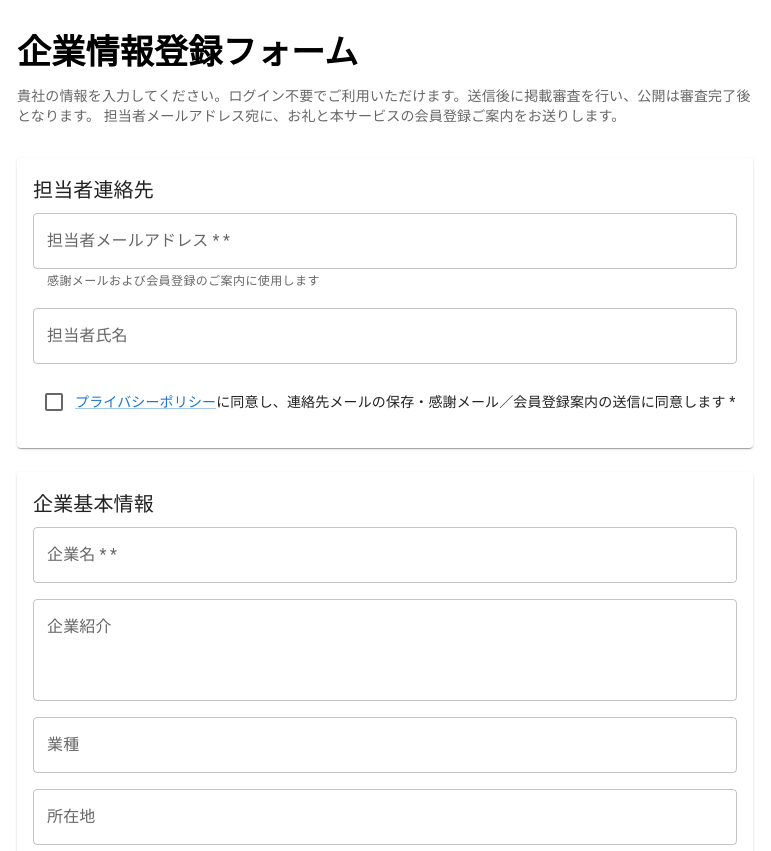
CompanyEntryPage › 同意チェック後に API へ送信する
Type "テスト株式会社" into the field labelled "企業名 * *" at (385, 555), box [33,527,737,583]
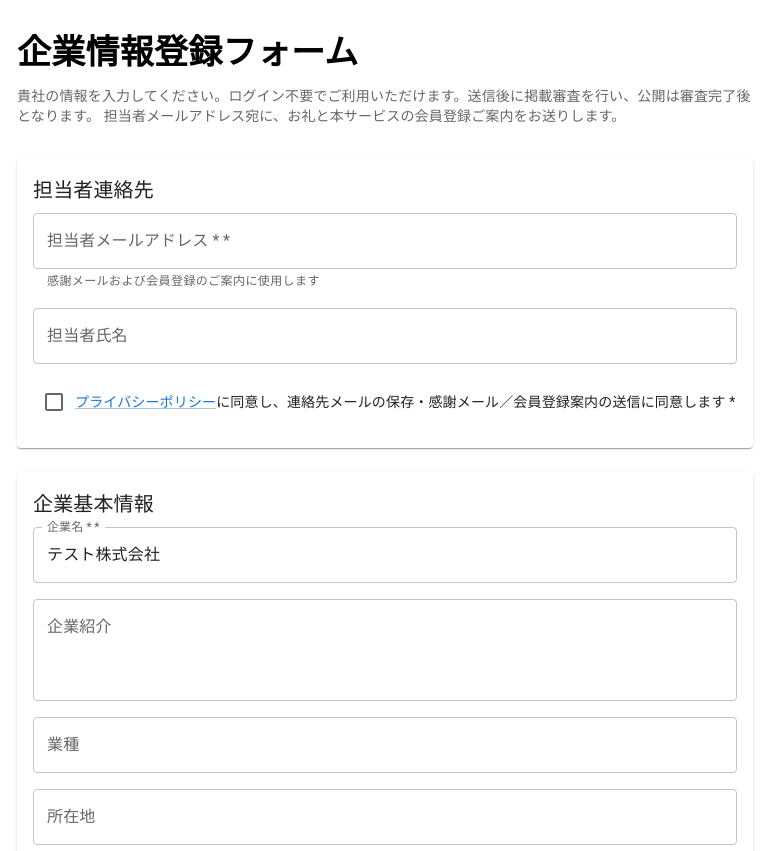
Type "hr@example.com" into the field labelled "担当者メールアドレス * *" at (385, 241), box [33,213,737,269]
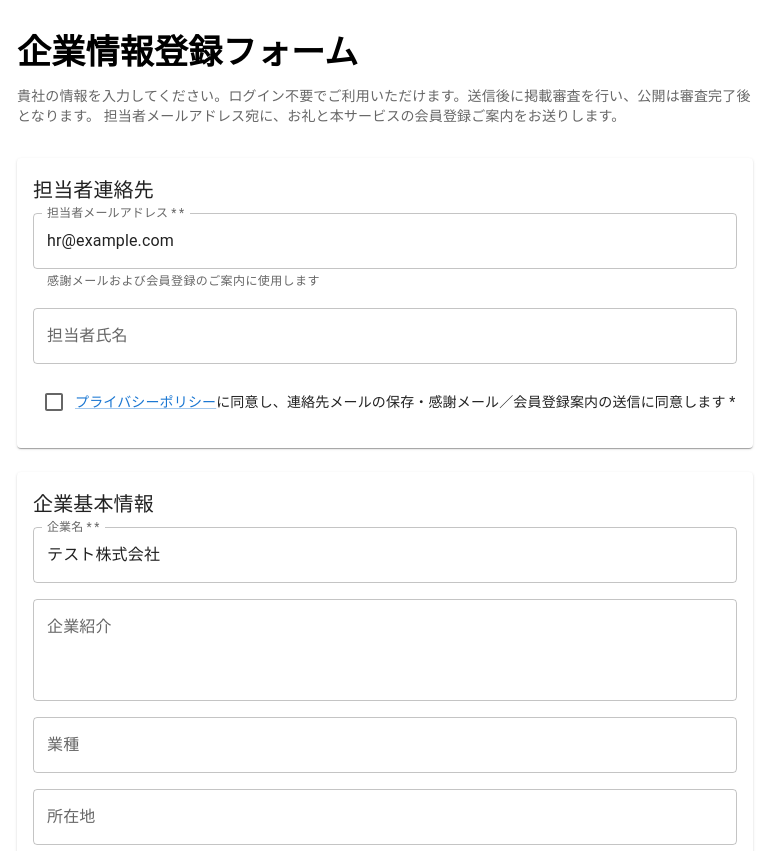
Click the checkbox at (389, 402), box [42,390,735,414]
(page scrolled)
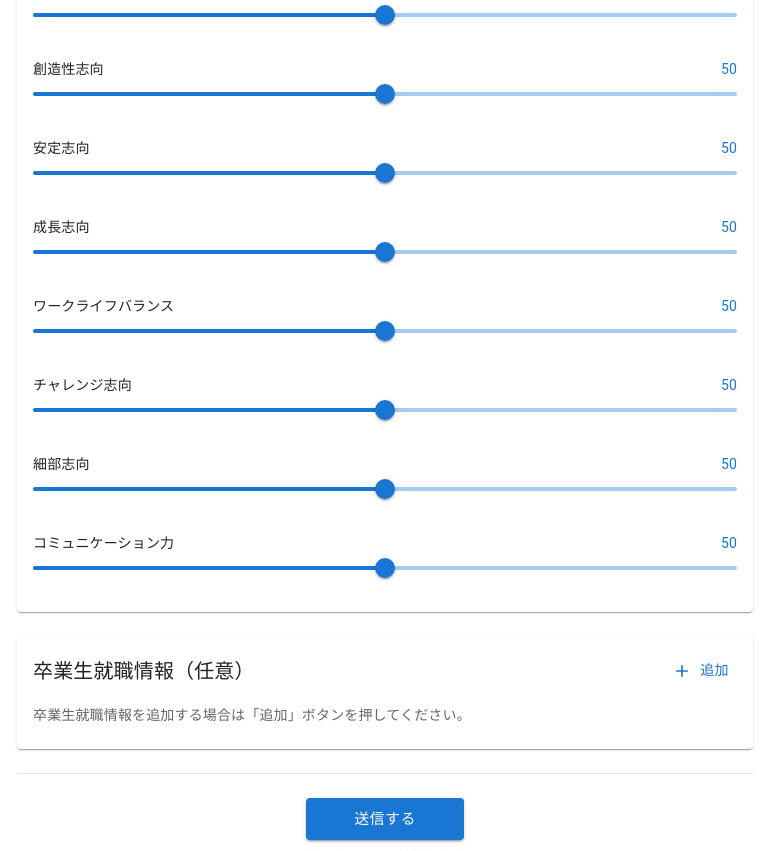
Click the button "送信する" at (385, 819), box [306,798,464,840]
(page scrolled)
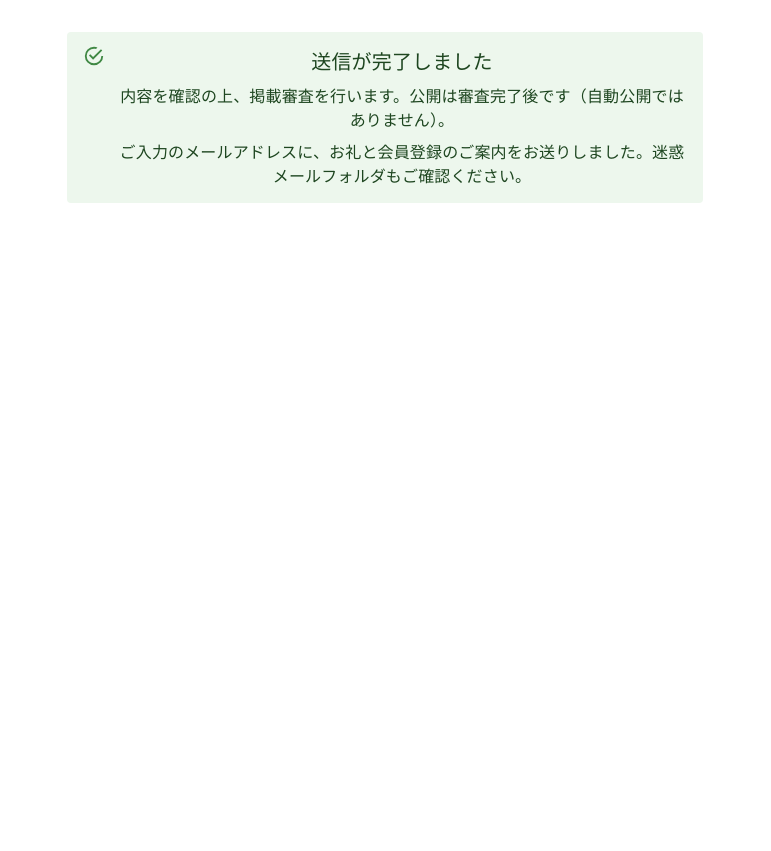
Now the text "ご入力のメールアドレスに、お礼と会員登録のご案内をお送りしました。迷惑メールフォルダもご確認ください。" is shown, box [117,141,687,189]
